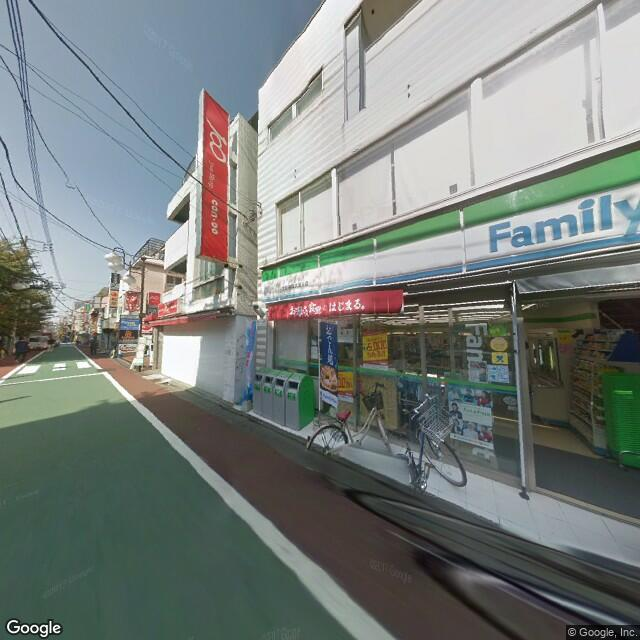family_mart: (261, 142, 638, 305), (487, 177, 637, 260)
